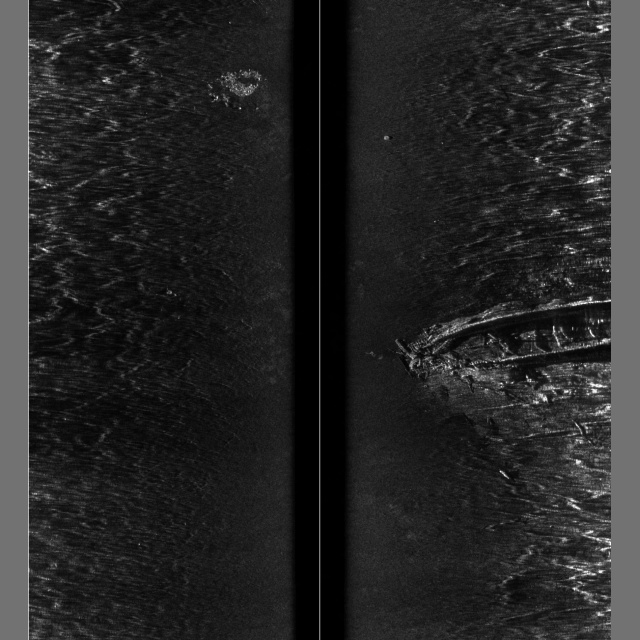Shipwreck: (206, 69, 611, 479)
